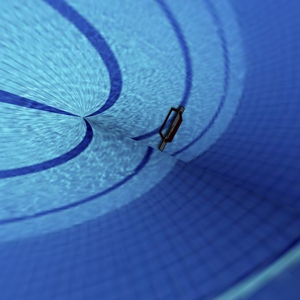submarine: (141, 95, 194, 158)
